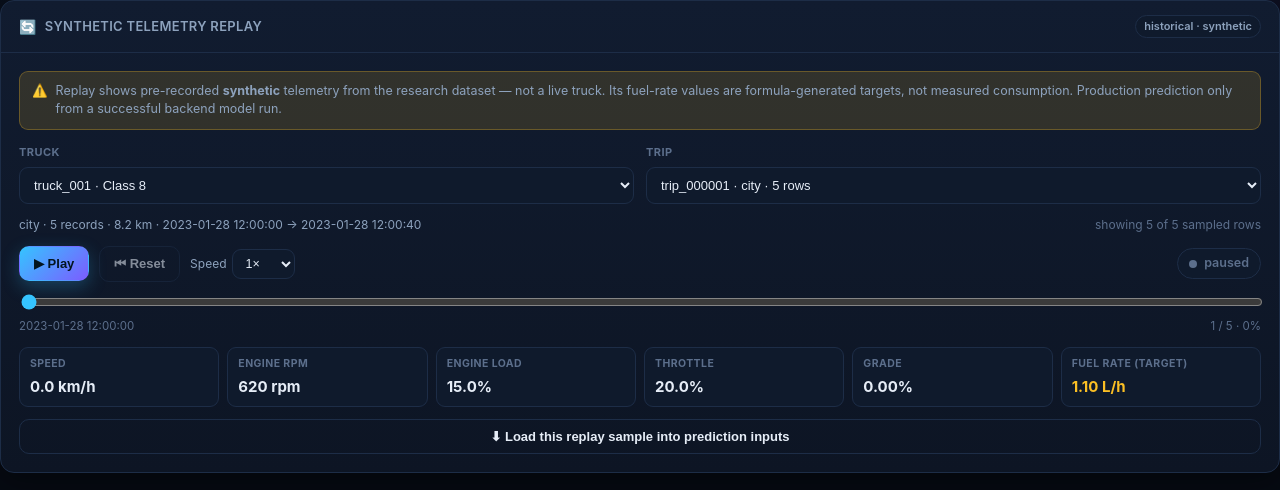
ReplayPanel seek and end-of-trip › seeks to a middle position and reflects that exact record
Set the slider named "Replay timeline seek" to "2": (642, 302) top-left (21, 294), bottom-right (1263, 310)
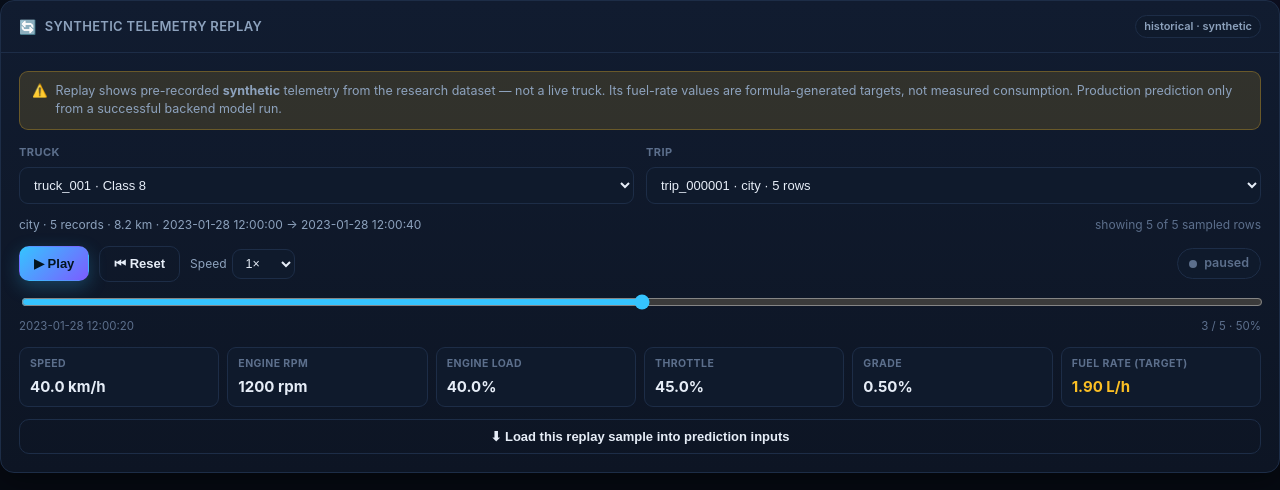
Expected: the text "2023-01-28 12:00:20" is shown, top-left (19, 318), bottom-right (134, 335)
Expected: the text "3 / 5 · 50%" is shown, top-left (1201, 318), bottom-right (1261, 335)
Expected: the text "40.0 km/h" is shown, top-left (30, 376), bottom-right (106, 396)
